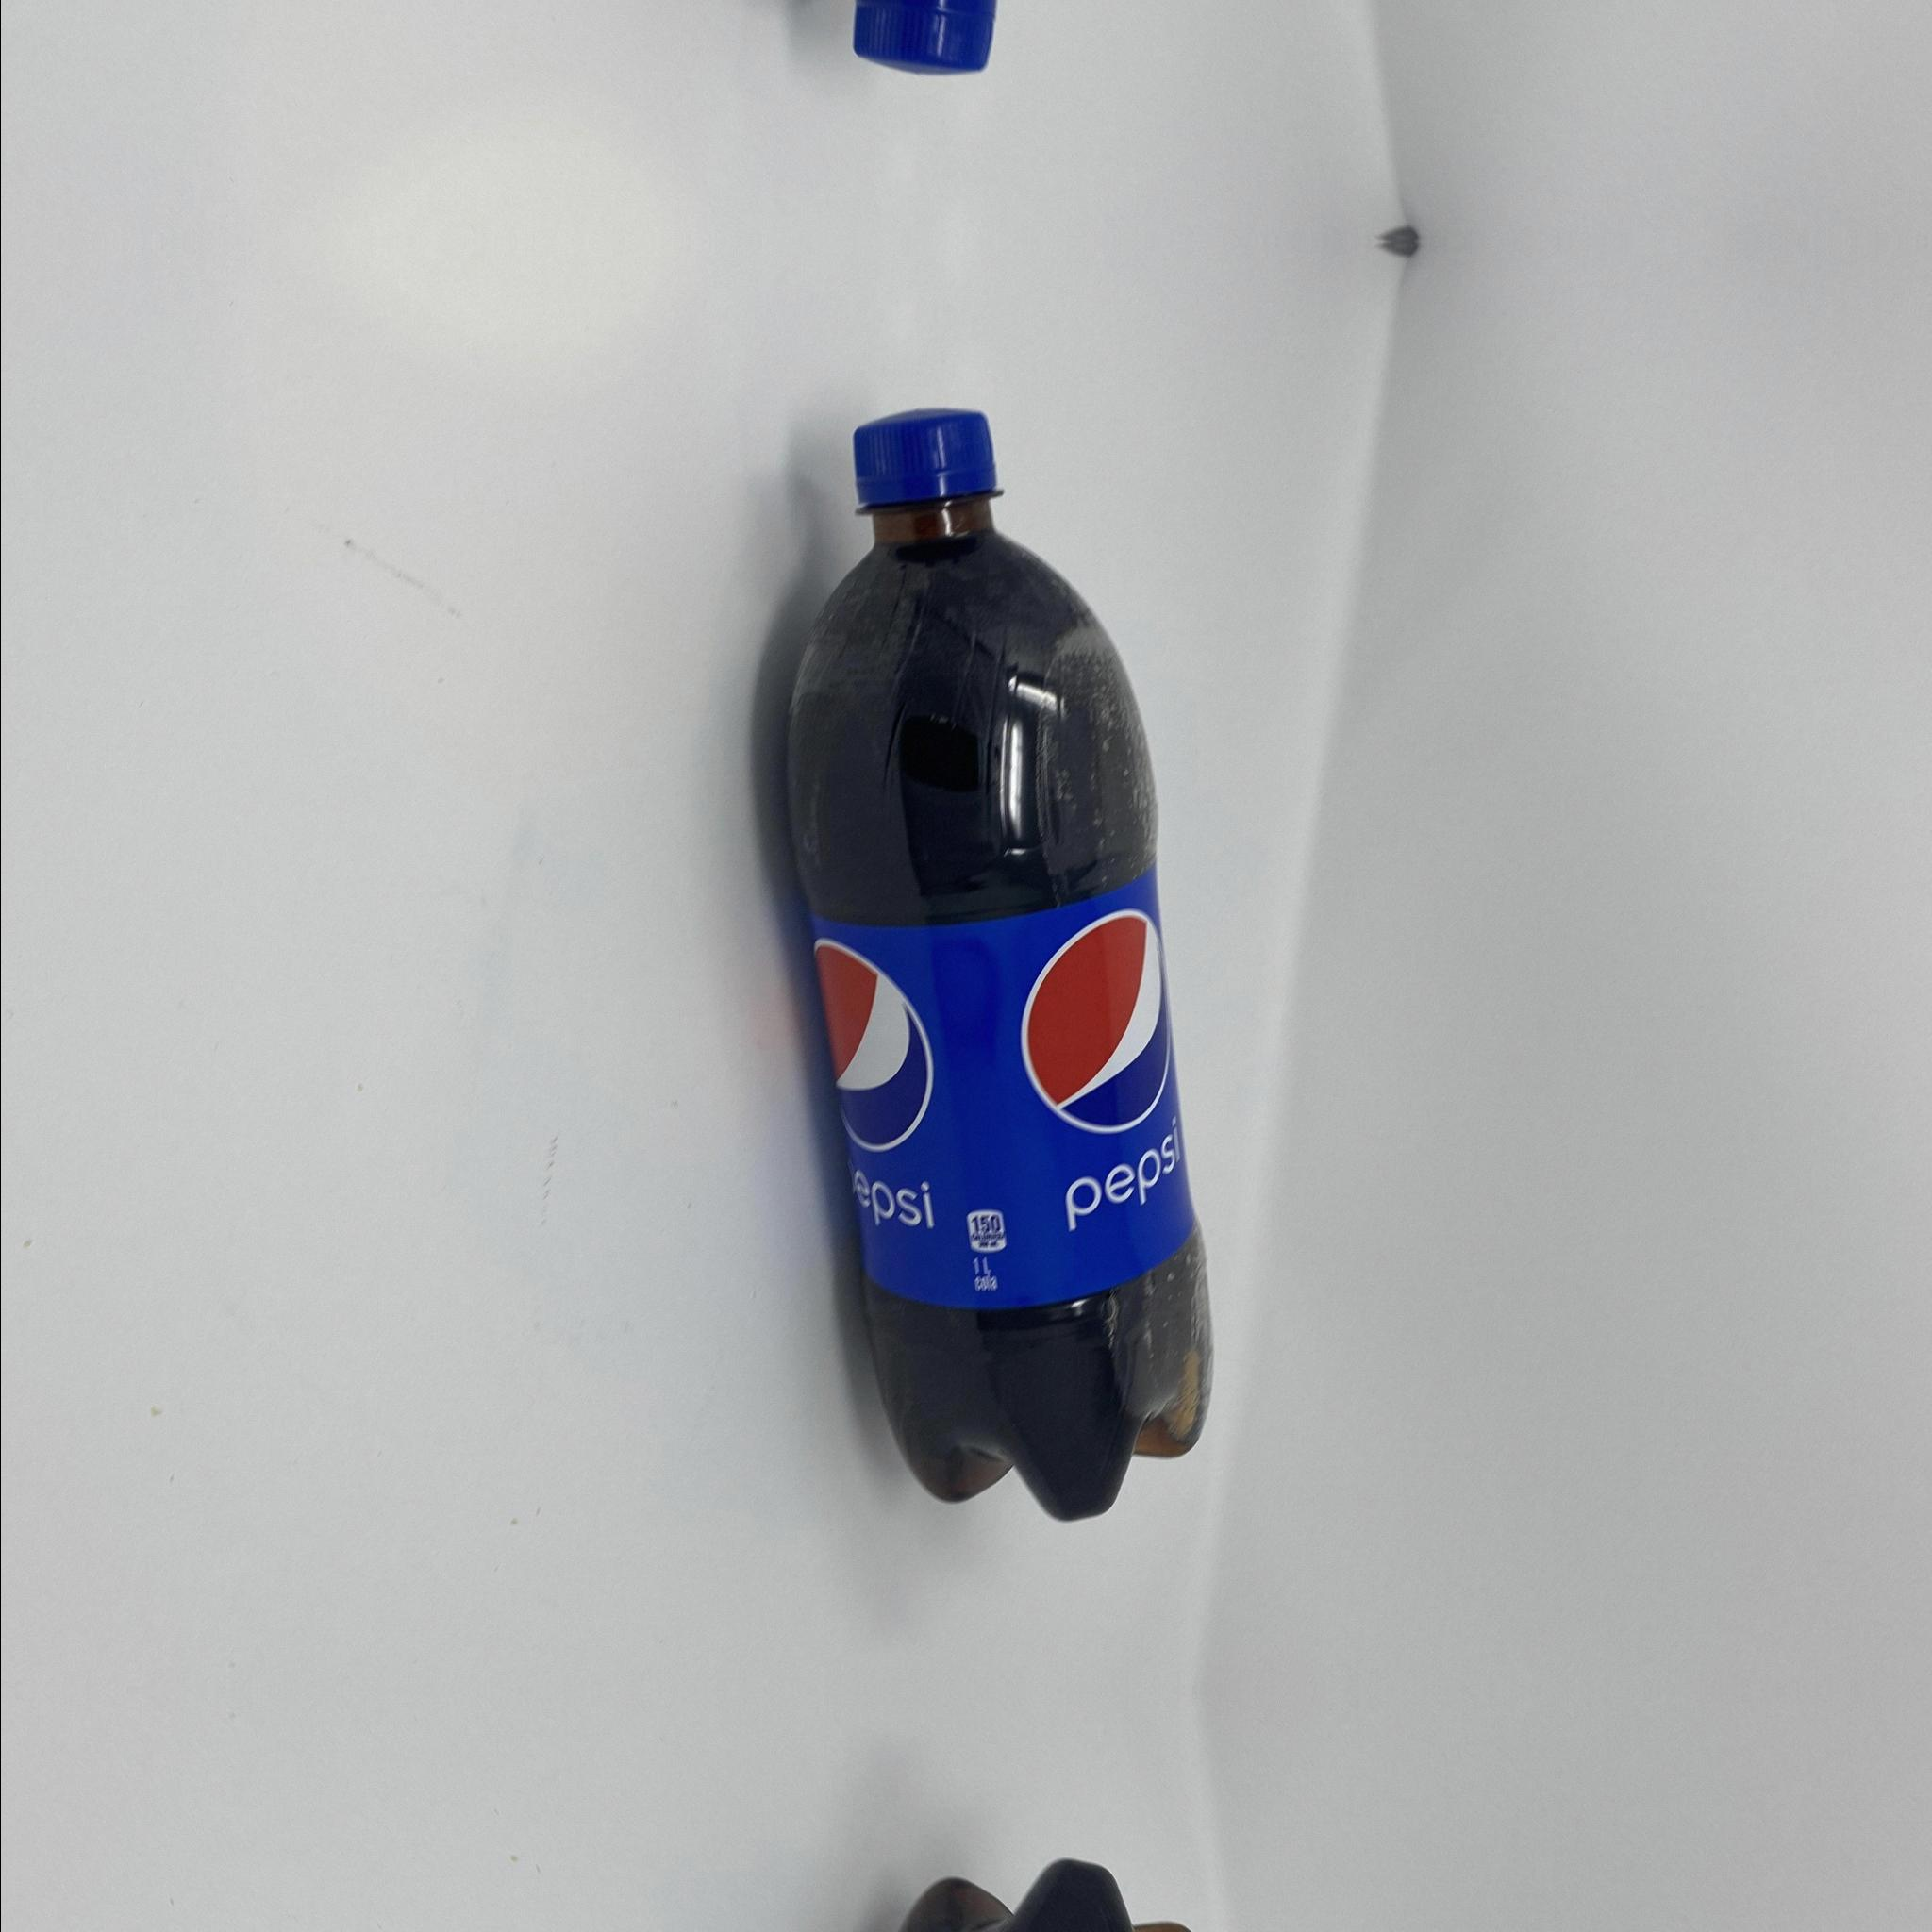PET: (780, 407, 1217, 1523)
pepsi: (780, 407, 1217, 1523)
plastic: (780, 407, 1217, 1523)
soft-drink: (780, 407, 1217, 1523)
